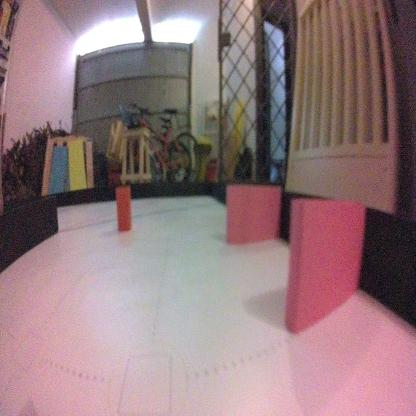magenta: (284, 195, 366, 338), (226, 181, 280, 244)
red: (114, 182, 131, 227)
